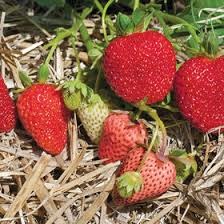strawberry: (101, 25, 178, 106), (15, 75, 71, 157), (111, 140, 178, 208), (174, 54, 224, 132), (97, 110, 148, 165)
